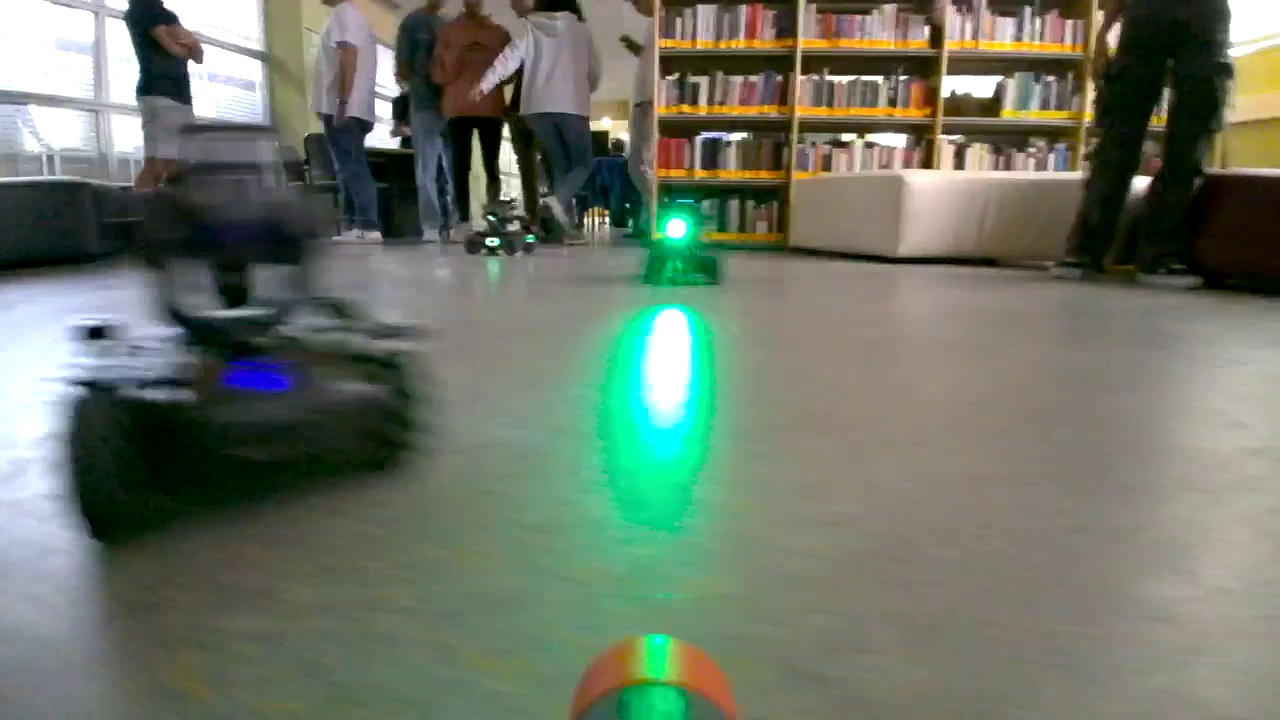robot: (461, 195, 538, 258)
